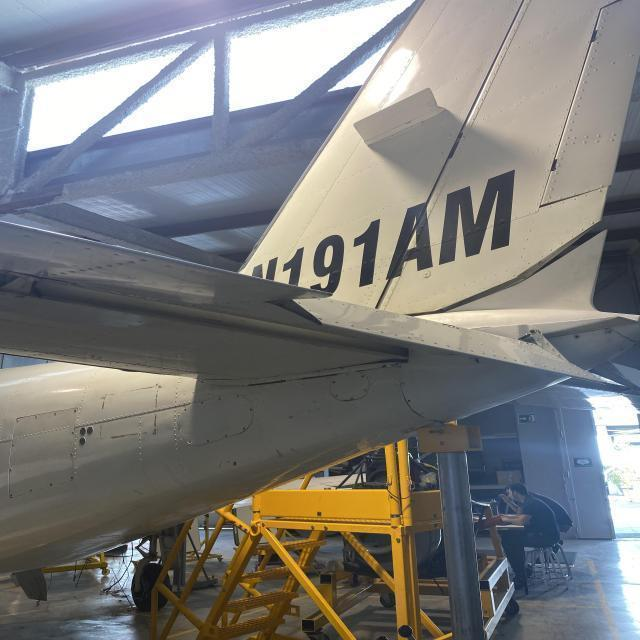Missing_Fastener: (236, 394, 241, 400), (188, 441, 192, 444), (206, 440, 211, 442), (242, 428, 246, 430)
